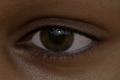eye: (41, 26, 74, 52)
